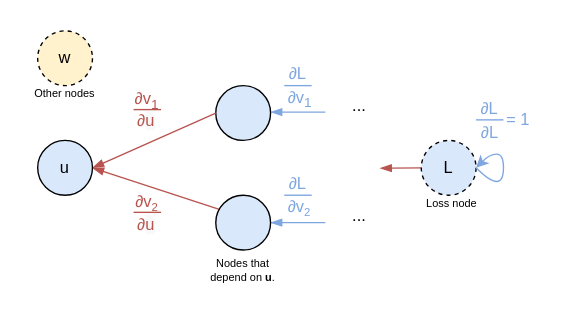
This 582x314 diagram has some shape labels left out. Here are the shapes that lost their labels. From the top down, the centre of each, then its label:
the point at 242,112: v 1
the point at 242,222: v 2
